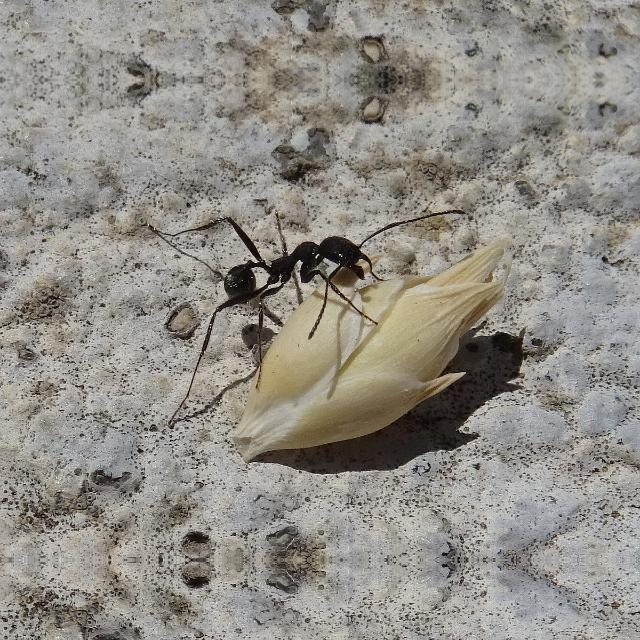Apheanogaster: (196, 218, 384, 320)
